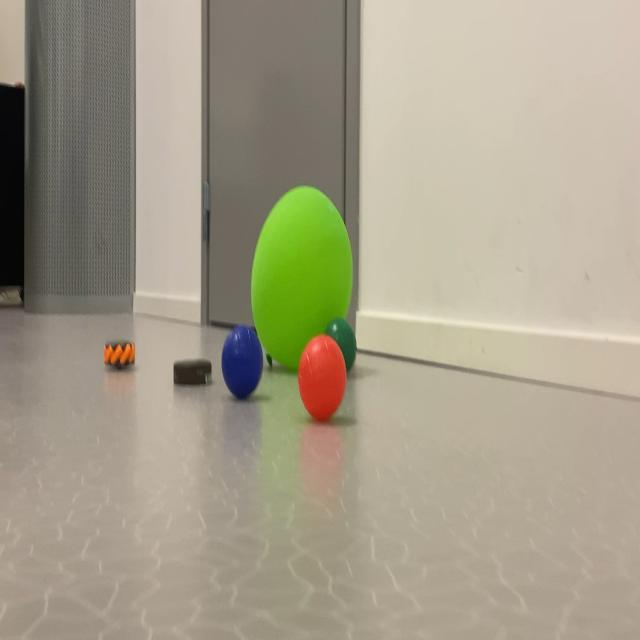7: (287, 327, 351, 447)
green ball: (218, 315, 265, 418)
red ball: (313, 302, 369, 379)
